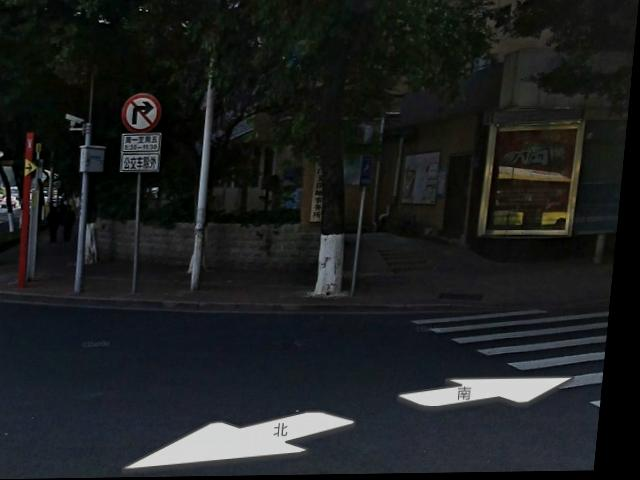not_turn_right: (124, 93, 165, 133)
